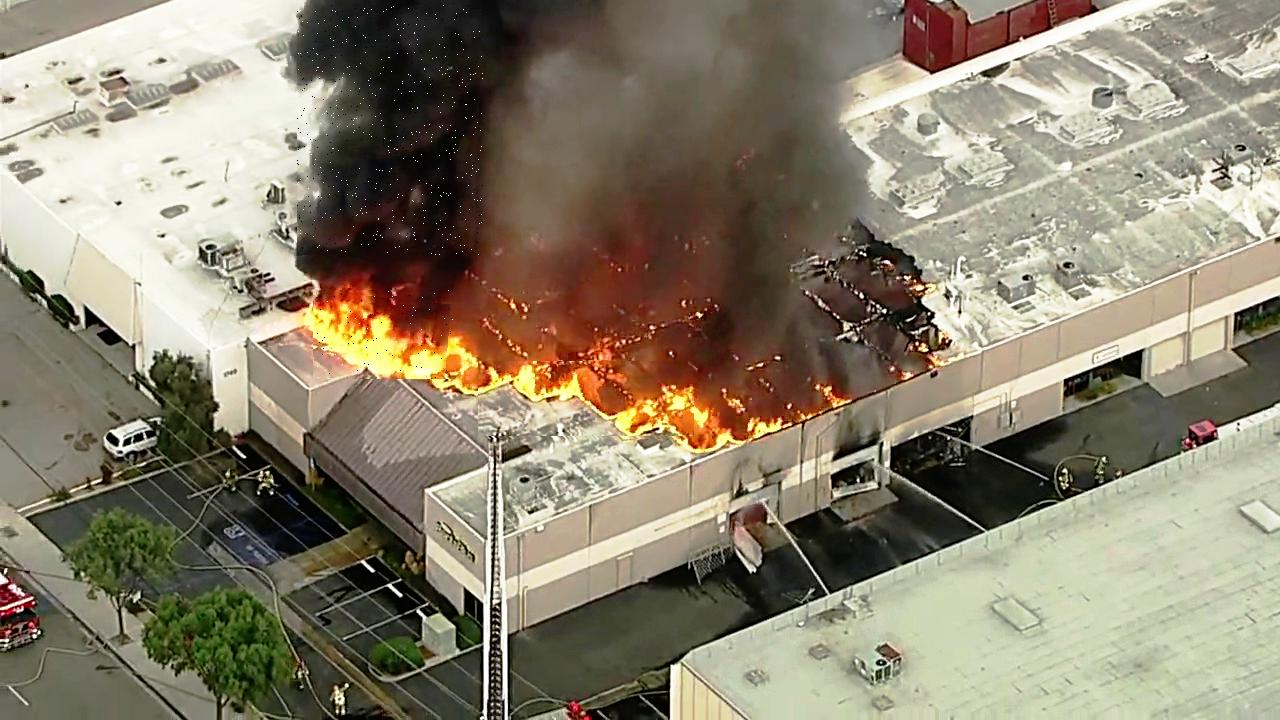fire: (479, 362, 697, 439), (314, 290, 454, 379)
smoke: (297, 5, 483, 256)
